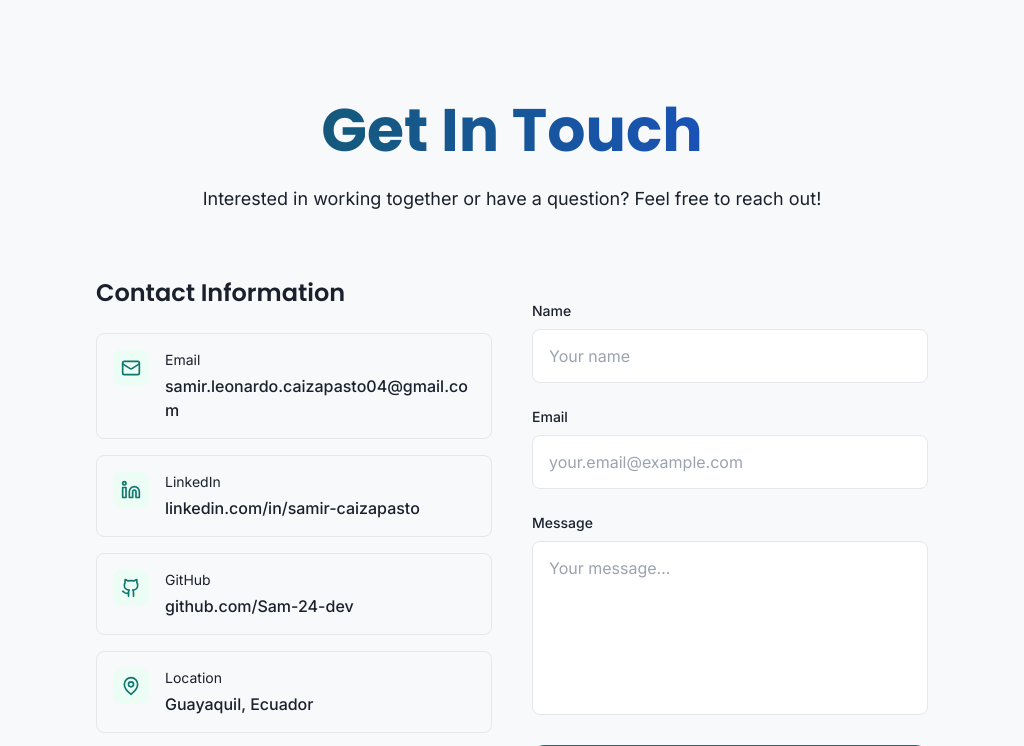
Test: Contact form › shows the faster feedback when the form is submitted too quickly
The width and height of the screenshot is (1024, 746).
Type "Samir" into the field labelled "Name" at point(730, 356), box [532, 329, 928, 383]
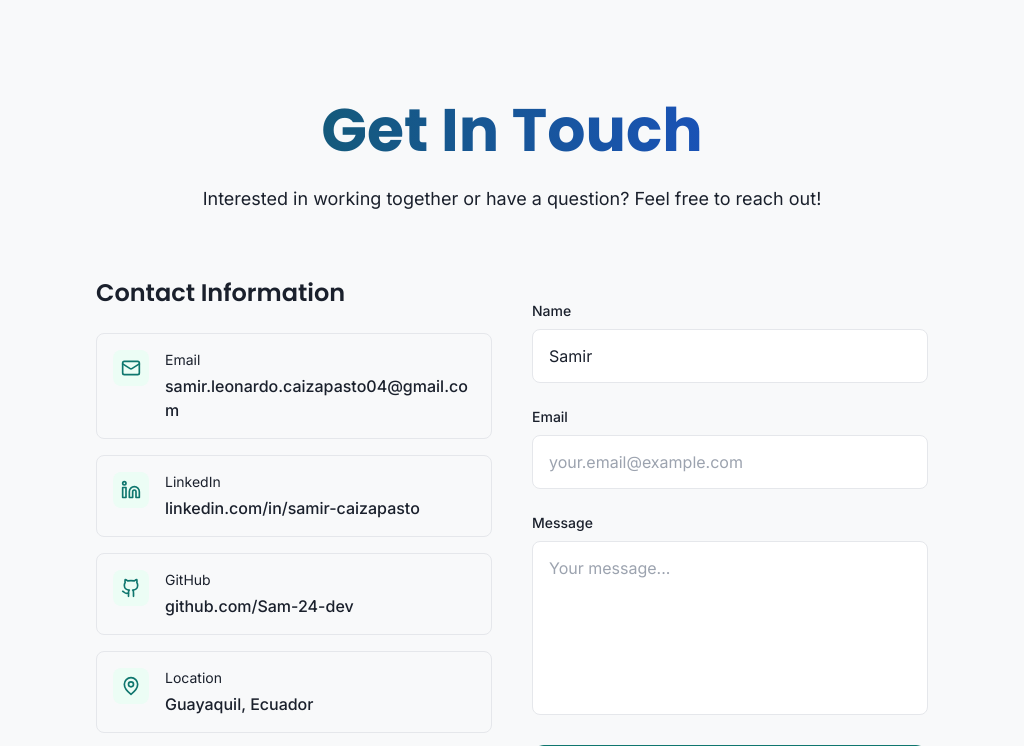
Type "samir@example.com" into the field labelled "Email" at point(730, 462), box [532, 435, 928, 489]
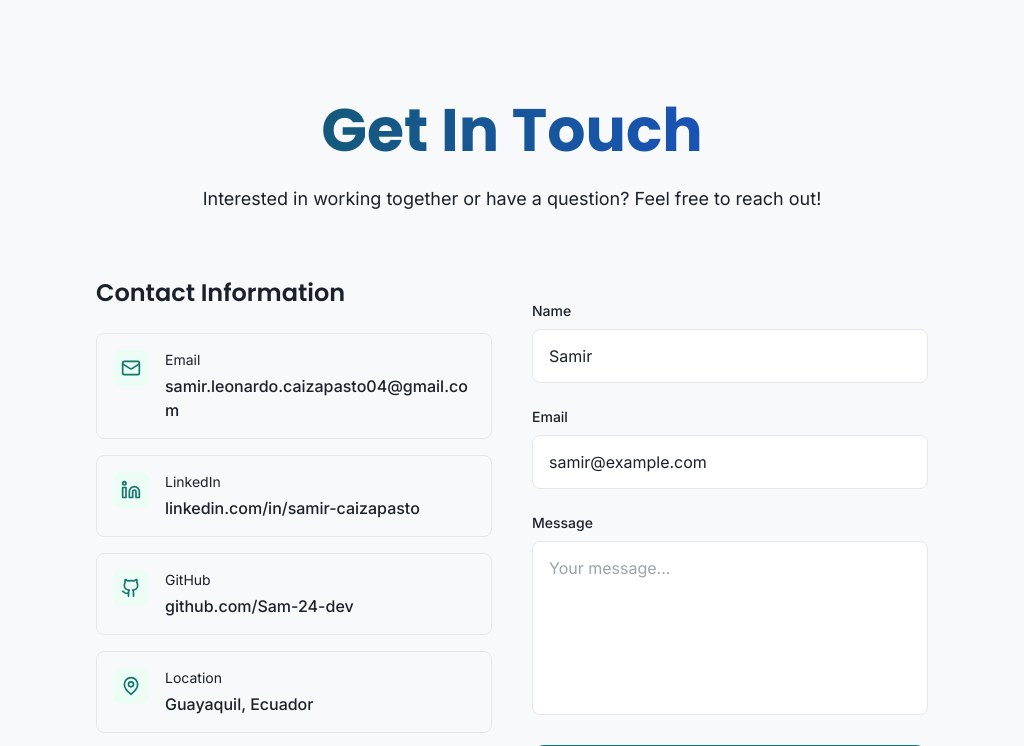
Type "Hello there. I would like to discuss an analyst opportunity." into the text box labelled "Message" at point(730, 628), box [532, 541, 928, 715]
(page scrolled)
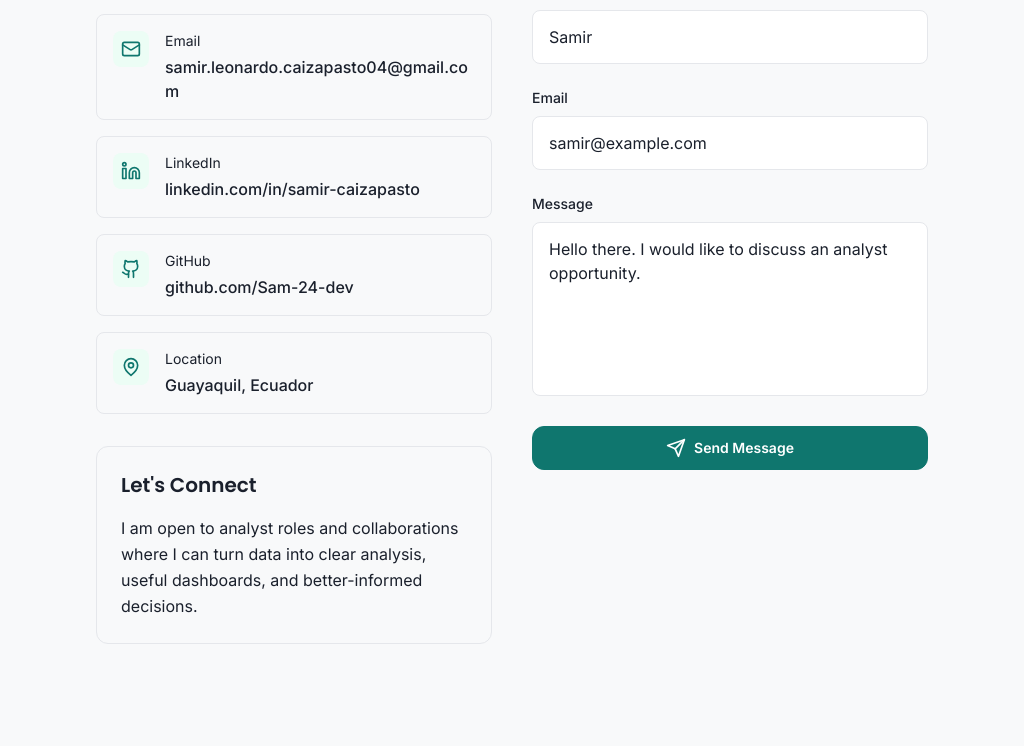
Click the button "Send Message" at point(730, 448), box [532, 426, 928, 470]
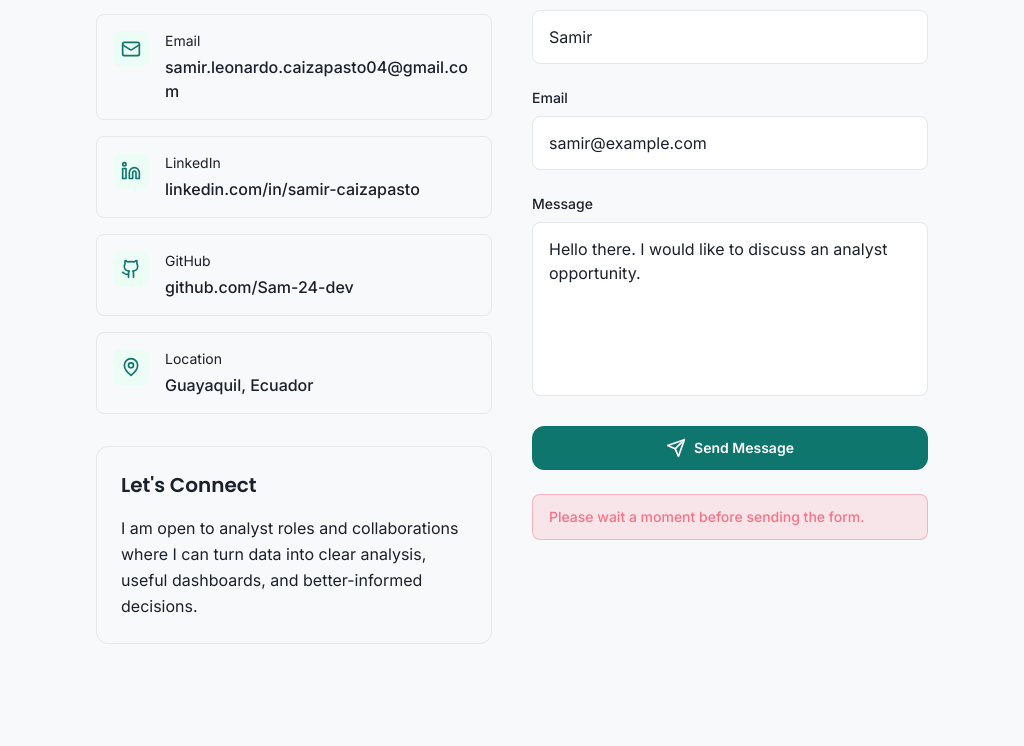
Check: the text "Please wait a moment before sending the form." is shown, box [532, 494, 928, 540]
